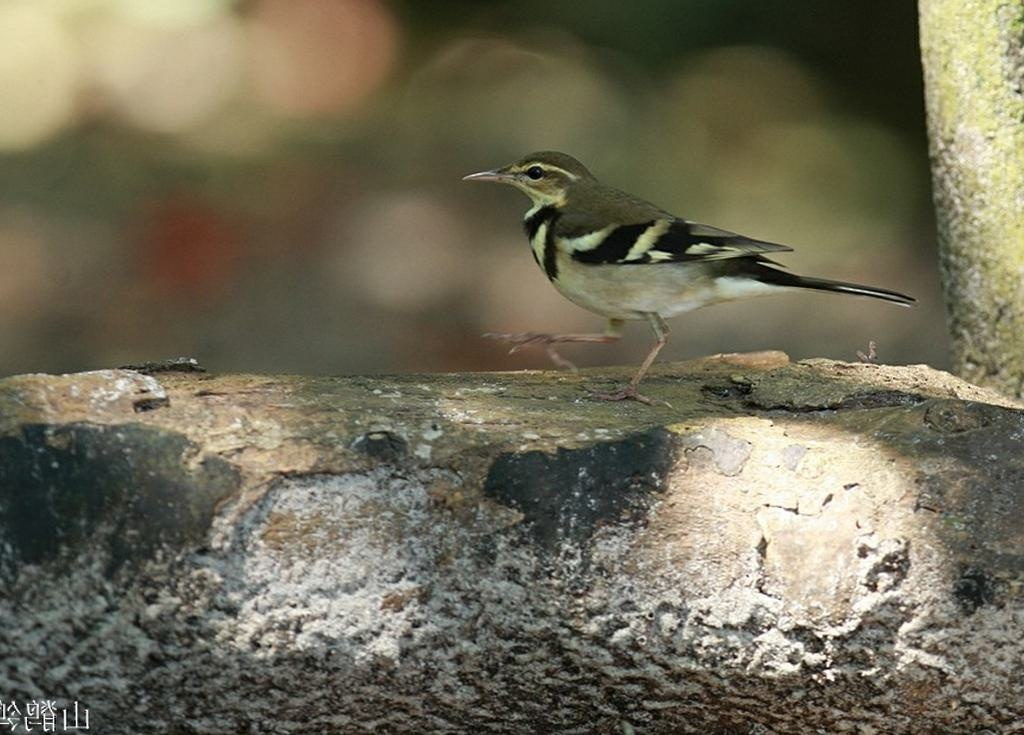wagtail: (472, 143, 880, 375)
